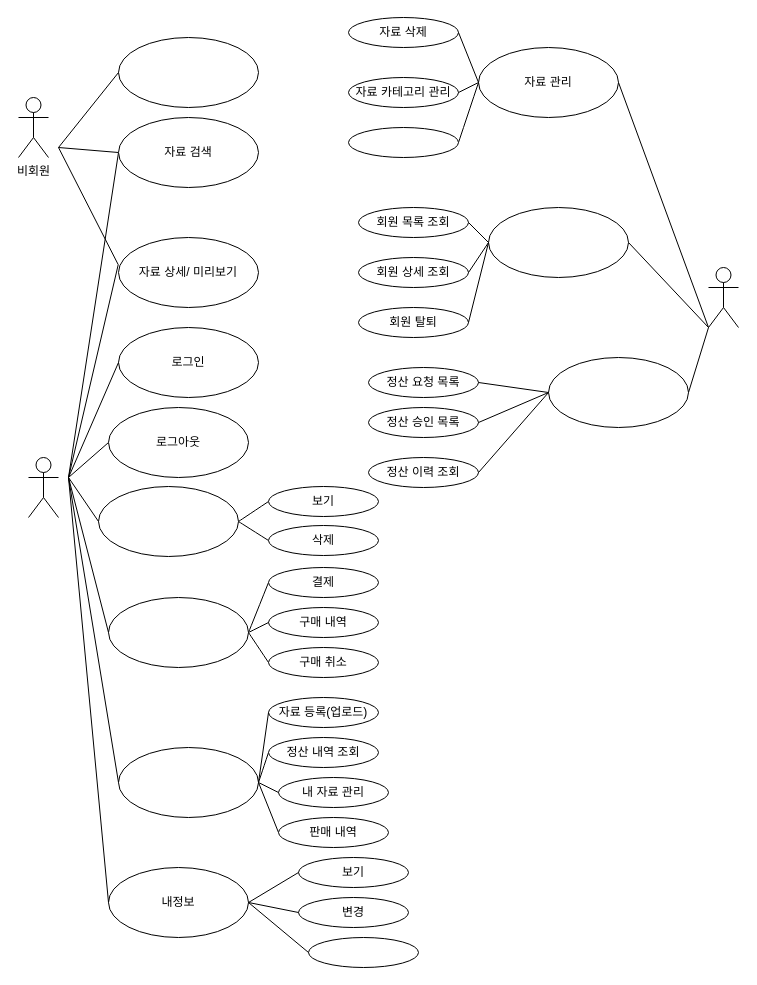
Image size: 757x985. Some labels were removed from this diagram. The centre of each missing label's shape, as x and y in pixels:
관리자: pixel 723 297
구매(다운로드): pixel 178 632
사용자의 정산/수익 관리: pixel 618 392
자료 상세 조회: pixel 403 142
찜(위시리스트): pixel 168 521
탈퇴: pixel 363 952
판매: pixel 188 782
회원: pixel 43 487
회원 관리: pixel 558 242
회원가입: pixel 188 72
